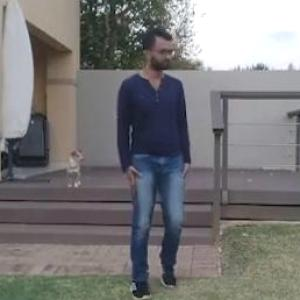follow: (114, 8, 217, 269)
